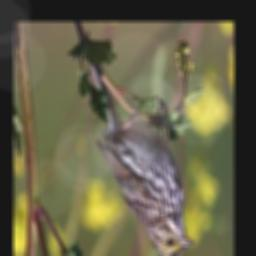Sparrow: (84, 62, 196, 256)
